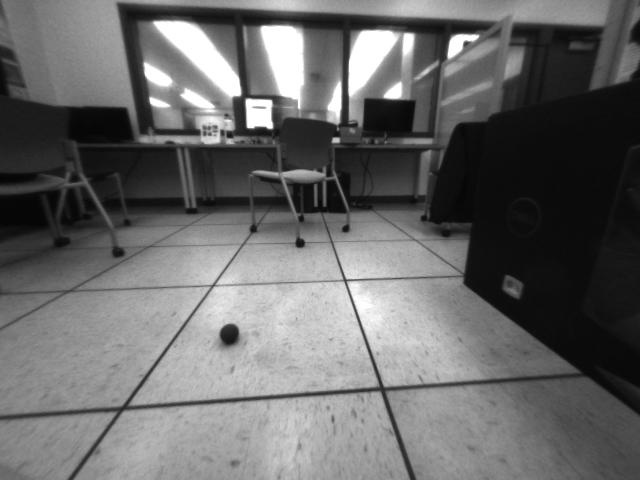dogtoy: (214, 313, 246, 350)
